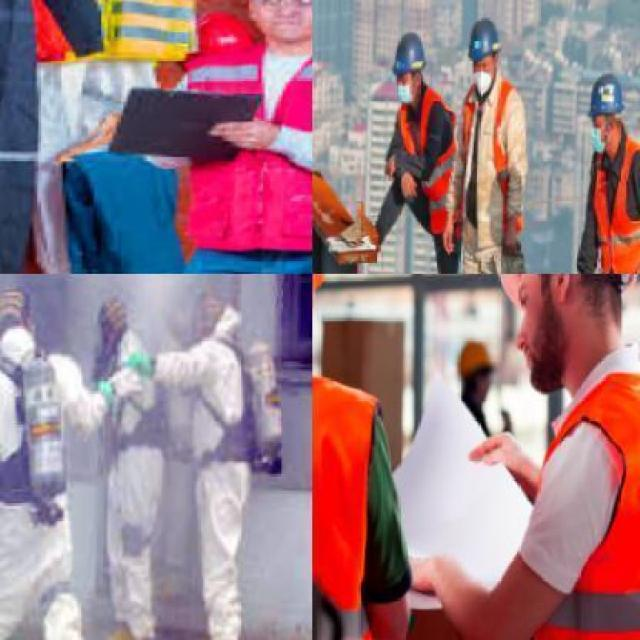Vest: (146, 37, 311, 266), (524, 332, 638, 638), (177, 329, 274, 629), (0, 338, 94, 636), (313, 334, 402, 638), (98, 343, 178, 599), (452, 77, 531, 231), (391, 82, 460, 245), (20, 0, 220, 55), (583, 140, 639, 272)
